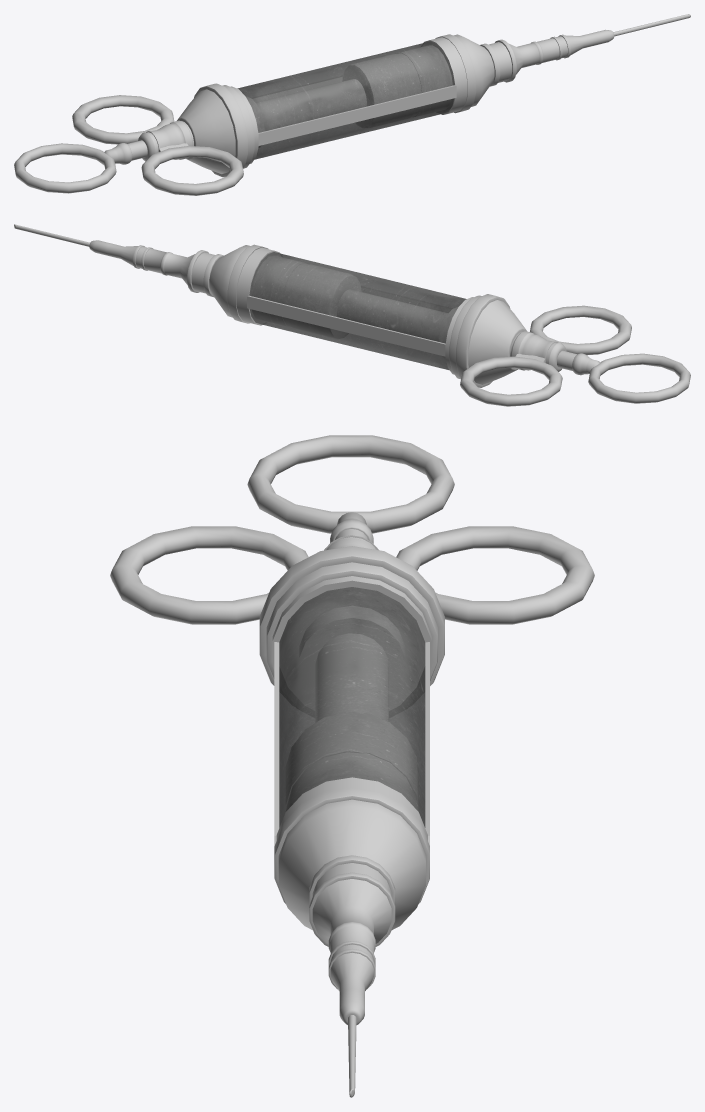
The picture shows the model from 3 angles, top to bottom: view 1: azimuth 30°, elevation 25°; view 2: azimuth 150°, elevation 25°; view 3: azimuth 270°, elevation 25°; orthographic projection. The views are drawn at different scales.
Parts seen in each view (by area): view 1: Syringe_sm_Base_0, Syringe_sm_Glass_0; view 2: Syringe_sm_Base_0, Syringe_sm_Glass_0; view 3: Syringe_sm_Base_0, Syringe_sm_Glass_0.
Boxes of the visible parts, x1,y1,x2,y2 form: Syringe_sm_Base_0: [14, 14, 690, 195]; Syringe_sm_Glass_0: [237, 41, 454, 159]; Syringe_sm_Base_0: [14, 224, 690, 406]; Syringe_sm_Glass_0: [249, 252, 466, 370]; Syringe_sm_Base_0: [110, 435, 594, 1097]; Syringe_sm_Glass_0: [279, 587, 425, 827].
Size of the model in its own units: 0.1808 by 0.022 by 0.0567.
